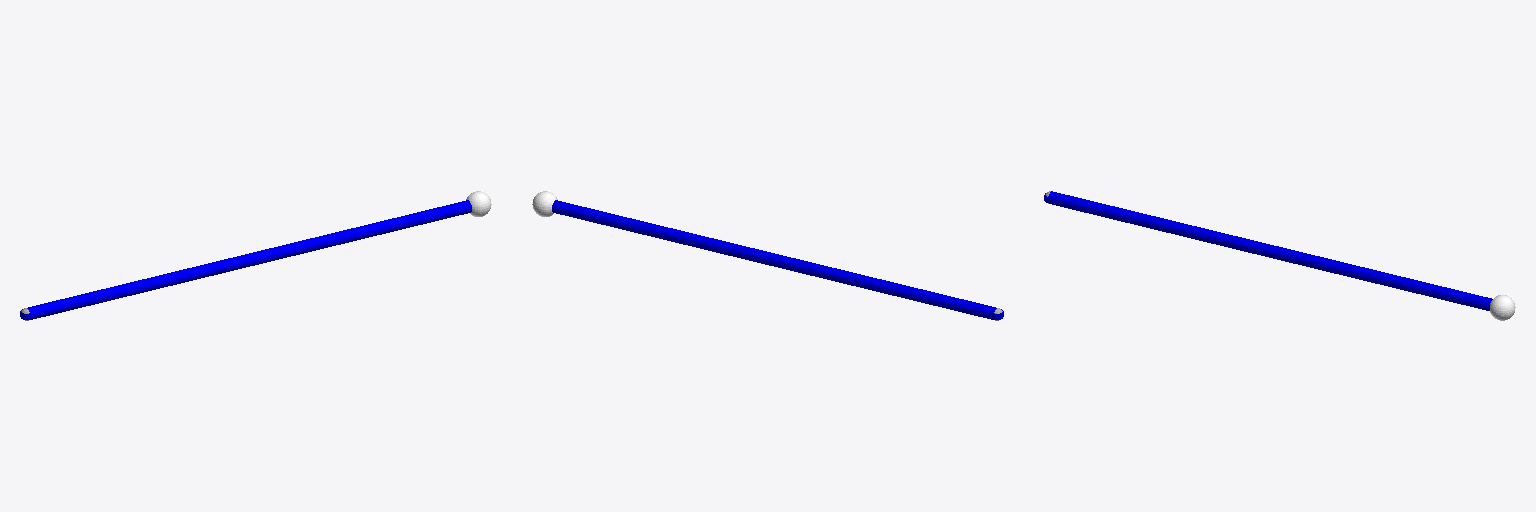
robot.urdf — planar_robot_4_link:
<?xml version="1.0" ?>
<robot name="planar_robot_4_link" version="1.0">
   <link name="world"/>
   <joint name="base_joint" type="fixed">
      <origin xyz="0.0 0.0 0.0" rpy="0.0 0.0 0.0"/>
      <parent link="world"/>
      <child link="base_link"/>
   </joint>
   <link name="base_link">
      <visual>
         <geometry>
            <cylinder radius="0.01" length="0.01"/>
         </geometry>
         <material name="blue">
            <color rgba="0.0 0.0 1.0 1.0"/>
         </material>
      </visual>
      <collision>
         <geometry>
            <cylinder radius="0.01" length="0.01"/>
         </geometry>
      </collision>
   </link>
   <joint name="joint_1" type="revolute">
      <origin xyz="0.0 0.0 0.0" rpy="0.0 0.0 0.0"/>
      <axis xyz="0.0 0.0 1.0"/>
      <parent link="base_link"/>
      <child link="link_1"/>
      <limit effort="320.0" lower="-2.97" upper="2.97" velocity="2.35619449019"/>
   </joint>
   <link name="link_1">
      <visual>
         <origin xyz="0.1 0.0 0.0" rpy="0.0 1.57079632679 0.0"/>
         <geometry>
            <cylinder radius="0.01" length="0.2"/>
         </geometry>
         <material name="blue">
            <color rgba="0.0 0.0 1.0 1.0"/>
         </material>
      </visual>
      <collision>
         <origin xyz="0.1 0.0 0.0" rpy="0.0 1.57079632679 0.0"/>
         <geometry>
            <cylinder radius="0.01" length="0.2"/>
         </geometry>
      </collision>
   </link>
   <joint name="joint_2" type="revolute">
      <origin xyz="0.2 0.0 0.0" rpy="0 0 0"/>
      <axis xyz="0.0 0.0 1.0"/>
      <parent link="link_1"/>
      <child link="link_2"/>
      <limit effort="320.0" lower="-2.36" upper="2.36" velocity="2.35619449019"/>
   </joint>
   <link name="link_2">
      <visual>
         <origin xyz="0.1 0.0 0.0" rpy="0.0 1.57079632679 0.0"/>
         <geometry>
            <cylinder radius="0.01" length="0.2"/>
         </geometry>
         <material name="blue">
            <color rgba="0.0 0.0 1.0 1.0"/>
         </material>
      </visual>
      <collision>
         <origin xyz="0.1 0.0 0.0" rpy="0.0 1.57079632679 0.0"/>
         <geometry>
            <cylinder radius="0.01" length="0.2"/>
         </geometry>
      </collision>
   </link>
   <joint name="joint_3" type="revolute">
      <origin xyz="0.2 0.0 0.0" rpy="0 0 0"/>
      <axis xyz="0.0 0.0 1.0"/>
      <parent link="link_2"/>
      <child link="link_3"/>
      <limit effort="320.0" lower="-2.36" upper="2.36" velocity="2.35619449019"/>
   </joint>
   <link name="link_3">
      <visual>
         <origin xyz="0.1 0.0 0.0" rpy="0.0 1.57079632679 0.0"/>
         <geometry>
            <cylinder radius="0.01" length="0.2"/>
         </geometry>
         <material name="blue">
            <color rgba="0.0 0.0 1.0 1.0"/>
         </material>
      </visual>
      <collision>
         <origin xyz="0.1 0.0 0.0" rpy="0.0 1.57079632679 0.0"/>
         <geometry>
            <cylinder radius="0.01" length="0.2"/>
         </geometry>
      </collision>
   </link>
   <joint name="joint_4" type="revolute">
      <origin xyz="0.2 0.0 0.0" rpy="0 0 0"/>
      <axis xyz="0.0 0.0 1.0"/>
      <parent link="link_3"/>
      <child link="link_4"/>
      <limit effort="320.0" lower="-2.36" upper="2.36" velocity="2.35619449019"/>
   </joint>
   <link name="link_4">
      <visual>
         <origin xyz="0.1 0.0 0.0" rpy="0.0 1.57079632679 0.0"/>
         <geometry>
            <cylinder radius="0.01" length="0.2"/>
         </geometry>
         <material name="blue">
            <color rgba="0.0 0.0 1.0 1.0"/>
         </material>
      </visual>
      <collision>
         <origin xyz="0.1 0.0 0.0" rpy="0.0 1.57079632679 0.0"/>
         <geometry>
            <cylinder radius="0.01" length="0.2"/>
         </geometry>
      </collision>
   </link>
   <joint name="joint_ee" type="fixed">
      <origin xyz="0.2 0.0 0.0" rpy="0 0 0"/>
      <axis xyz="1.0 0.0 0.0"/>
      <parent link="link_4"/>
      <child link="link_ee"/>
   </joint>
   <link name="link_ee">
      <visual>
         <origin xyz="0.0 0.0 0.0" rpy="0.0 0.0 0.0"/>
         <geometry>
            <sphere radius="0.02"/>
         </geometry>
         <material name="white">
            <color rgba="1.0 1.0 1.0 1.0"/>
         </material>
      </visual>
      <collision>
         <origin xyz="0.0 0.0 0.0" rpy="0.0 0.0 0.0"/>
         <geometry>
            <sphere radius="0.02"/>
         </geometry>
      </collision>
   </link>
   <joint name="joint_link_1_sphere_0" type="fixed">
      <origin xyz="0.0 0.0 0.0" rpy="0 0 0"/>
      <parent link="link_1"/>
      <child link="link_1_0"/>
   </joint>
   <link name="link_1_0">
      <origin xyz="0.0 0.0 0.0" rpy="0.0 0.0 0.0"/>
      <visual>
         <geometry>
            <sphere radius="0.01"/>
         </geometry>
      </visual>
   </link>
   <joint name="joint_link_1_sphere_1" type="fixed">
      <origin xyz="0.04 0.0 0.0" rpy="0 0 0"/>
      <parent link="link_1"/>
      <child link="link_1_1"/>
   </joint>
   <link name="link_1_1">
      <origin xyz="0.0 0.0 0.0" rpy="0.0 0.0 0.0"/>
      <visual>
         <geometry>
            <sphere radius="0.01"/>
         </geometry>
      </visual>
   </link>
   <joint name="joint_link_1_sphere_2" type="fixed">
      <origin xyz="0.08 0.0 0.0" rpy="0 0 0"/>
      <parent link="link_1"/>
      <child link="link_1_2"/>
   </joint>
   <link name="link_1_2">
      <origin xyz="0.0 0.0 0.0" rpy="0.0 0.0 0.0"/>
      <visual>
         <geometry>
            <sphere radius="0.01"/>
         </geometry>
      </visual>
   </link>
   <joint name="joint_link_1_sphere_3" type="fixed">
      <origin xyz="0.12 0.0 0.0" rpy="0 0 0"/>
      <parent link="link_1"/>
      <child link="link_1_3"/>
   </joint>
   <link name="link_1_3">
      <origin xyz="0.0 0.0 0.0" rpy="0.0 0.0 0.0"/>
      <visual>
         <geometry>
            <sphere radius="0.01"/>
         </geometry>
      </visual>
   </link>
   <joint name="joint_link_1_sphere_4" type="fixed">
      <origin xyz="0.16 0.0 0.0" rpy="0 0 0"/>
      <parent link="link_1"/>
      <child link="link_1_4"/>
   </joint>
   <link name="link_1_4">
      <origin xyz="0.0 0.0 0.0" rpy="0.0 0.0 0.0"/>
      <visual>
         <geometry>
            <sphere radius="0.01"/>
         </geometry>
      </visual>
   </link>
   <joint name="joint_link_2_sphere_0" type="fixed">
      <origin xyz="0.0 0.0 0.0" rpy="0 0 0"/>
      <parent link="link_2"/>
      <child link="link_2_0"/>
   </joint>
   <link name="link_2_0">
      <origin xyz="0.0 0.0 0.0" rpy="0.0 0.0 0.0"/>
      <visual>
         <geometry>
            <sphere radius="0.01"/>
         </geometry>
      </visual>
   </link>
   <joint name="joint_link_2_sphere_1" type="fixed">
      <origin xyz="0.04 0.0 0.0" rpy="0 0 0"/>
      <parent link="link_2"/>
      <child link="link_2_1"/>
   </joint>
   <link name="link_2_1">
      <origin xyz="0.0 0.0 0.0" rpy="0.0 0.0 0.0"/>
      <visual>
         <geometry>
            <sphere radius="0.01"/>
         </geometry>
      </visual>
   </link>
   <joint name="joint_link_2_sphere_2" type="fixed">
      <origin xyz="0.08 0.0 0.0" rpy="0 0 0"/>
      <parent link="link_2"/>
      <child link="link_2_2"/>
   </joint>
   <link name="link_2_2">
      <origin xyz="0.0 0.0 0.0" rpy="0.0 0.0 0.0"/>
      <visual>
         <geometry>
            <sphere radius="0.01"/>
         </geometry>
      </visual>
   </link>
   <joint name="joint_link_2_sphere_3" type="fixed">
      <origin xyz="0.12 0.0 0.0" rpy="0 0 0"/>
      <parent link="link_2"/>
      <child link="link_2_3"/>
   </joint>
   <link name="link_2_3">
      <origin xyz="0.0 0.0 0.0" rpy="0.0 0.0 0.0"/>
      <visual>
         <geometry>
            <sphere radius="0.01"/>
         </geometry>
      </visual>
   </link>
   <joint name="joint_link_2_sphere_4" type="fixed">
      <origin xyz="0.16 0.0 0.0" rpy="0 0 0"/>
      <parent link="link_2"/>
      <child link="link_2_4"/>
   </joint>
   <link name="link_2_4">
      <origin xyz="0.0 0.0 0.0" rpy="0.0 0.0 0.0"/>
      <visual>
         <geometry>
            <sphere radius="0.01"/>
         </geometry>
      </visual>
   </link>
   <joint name="joint_link_3_sphere_0" type="fixed">
      <origin xyz="0.0 0.0 0.0" rpy="0 0 0"/>
      <parent link="link_3"/>
      <child link="link_3_0"/>
   </joint>
   <link name="link_3_0">
      <origin xyz="0.0 0.0 0.0" rpy="0.0 0.0 0.0"/>
      <visual>
         <geometry>
            <sphere radius="0.01"/>
         </geometry>
      </visual>
   </link>
   <joint name="joint_link_3_sphere_1" type="fixed">
      <origin xyz="0.04 0.0 0.0" rpy="0 0 0"/>
      <parent link="link_3"/>
      <child link="link_3_1"/>
   </joint>
   <link name="link_3_1">
      <origin xyz="0.0 0.0 0.0" rpy="0.0 0.0 0.0"/>
      <visual>
         <geometry>
            <sphere radius="0.01"/>
         </geometry>
      </visual>
   </link>
   <joint name="joint_link_3_sphere_2" type="fixed">
      <origin xyz="0.08 0.0 0.0" rpy="0 0 0"/>
      <parent link="link_3"/>
      <child link="link_3_2"/>
   </joint>
   <link name="link_3_2">
      <origin xyz="0.0 0.0 0.0" rpy="0.0 0.0 0.0"/>
      <visual>
         <geometry>
            <sphere radius="0.01"/>
         </geometry>
      </visual>
   </link>
   <joint name="joint_link_3_sphere_3" type="fixed">
      <origin xyz="0.12 0.0 0.0" rpy="0 0 0"/>
      <parent link="link_3"/>
      <child link="link_3_3"/>
   </joint>
   <link name="link_3_3">
      <origin xyz="0.0 0.0 0.0" rpy="0.0 0.0 0.0"/>
      <visual>
         <geometry>
            <sphere radius="0.01"/>
         </geometry>
      </visual>
   </link>
   <joint name="joint_link_3_sphere_4" type="fixed">
      <origin xyz="0.16 0.0 0.0" rpy="0 0 0"/>
      <parent link="link_3"/>
      <child link="link_3_4"/>
   </joint>
   <link name="link_3_4">
      <origin xyz="0.0 0.0 0.0" rpy="0.0 0.0 0.0"/>
      <visual>
         <geometry>
            <sphere radius="0.01"/>
         </geometry>
      </visual>
   </link>
   <joint name="joint_link_4_sphere_0" type="fixed">
      <origin xyz="0.0 0.0 0.0" rpy="0 0 0"/>
      <parent link="link_4"/>
      <child link="link_4_0"/>
   </joint>
   <link name="link_4_0">
      <origin xyz="0.0 0.0 0.0" rpy="0.0 0.0 0.0"/>
      <visual>
         <geometry>
            <sphere radius="0.01"/>
         </geometry>
      </visual>
   </link>
   <joint name="joint_link_4_sphere_1" type="fixed">
      <origin xyz="0.04 0.0 0.0" rpy="0 0 0"/>
      <parent link="link_4"/>
      <child link="link_4_1"/>
   </joint>
   <link name="link_4_1">
      <origin xyz="0.0 0.0 0.0" rpy="0.0 0.0 0.0"/>
      <visual>
         <geometry>
            <sphere radius="0.01"/>
         </geometry>
      </visual>
   </link>
   <joint name="joint_link_4_sphere_2" type="fixed">
      <origin xyz="0.08 0.0 0.0" rpy="0 0 0"/>
      <parent link="link_4"/>
      <child link="link_4_2"/>
   </joint>
   <link name="link_4_2">
      <origin xyz="0.0 0.0 0.0" rpy="0.0 0.0 0.0"/>
      <visual>
         <geometry>
            <sphere radius="0.01"/>
         </geometry>
      </visual>
   </link>
   <joint name="joint_link_4_sphere_3" type="fixed">
      <origin xyz="0.12 0.0 0.0" rpy="0 0 0"/>
      <parent link="link_4"/>
      <child link="link_4_3"/>
   </joint>
   <link name="link_4_3">
      <origin xyz="0.0 0.0 0.0" rpy="0.0 0.0 0.0"/>
      <visual>
         <geometry>
            <sphere radius="0.01"/>
         </geometry>
      </visual>
   </link>
   <joint name="joint_link_4_sphere_4" type="fixed">
      <origin xyz="0.16 0.0 0.0" rpy="0 0 0"/>
      <parent link="link_4"/>
      <child link="link_4_4"/>
   </joint>
   <link name="link_4_4">
      <origin xyz="0.0 0.0 0.0" rpy="0.0 0.0 0.0"/>
      <visual>
         <geometry>
            <sphere radius="0.01"/>
         </geometry>
      </visual>
   </link>
   <joint name="joint_link_4_sphere_5" type="fixed">
      <origin xyz="0.2 0.0 0.0" rpy="0 0 0"/>
      <parent link="link_4"/>
      <child link="link_4_5"/>
   </joint>
   <link name="link_4_5">
      <origin xyz="0.0 0.0 0.0" rpy="0.0 0.0 0.0"/>
      <visual>
         <geometry>
            <sphere radius="0.01"/>
         </geometry>
      </visual>
   </link>
</robot>

--- What the picture shows (computed from the rendered views, not written in the file) ---
3 views of the same robot in one strip: view 1: azimuth 30°, elevation 25°; view 2: azimuth 150°, elevation 25°; view 3: azimuth 330°, elevation 25° (orthographic).
Model planar_robot_4_link with 28 links and 27 joints (4 revolute, 23 fixed), rooted at world, posed every joint at zero.
Visible links, largest first — view 1: link_3, link_2, link_1, link_4; view 2: link_3, link_2, link_1, link_4; view 3: link_3, link_2, link_1, link_4, link_ee.
Boxes of the visible links, left/top/right/bottom form: link_3: left=253, top=225, right=368, bottom=264; link_2: left=139, top=253, right=255, bottom=292; link_1: left=27, top=280, right=142, bottom=319; link_4: left=365, top=200, right=471, bottom=237; link_3: left=655, top=225, right=770, bottom=264; link_2: left=768, top=253, right=884, bottom=292; link_1: left=881, top=280, right=996, bottom=319; link_4: left=552, top=200, right=658, bottom=237; link_3: left=1274, top=246, right=1389, bottom=285; link_2: left=1161, top=219, right=1276, bottom=258; link_1: left=1048, top=191, right=1163, bottom=230; link_4: left=1386, top=274, right=1492, bottom=310; link_ee: left=1490, top=295, right=1515, bottom=320.
Size in the robot's own frame: 0.83 by 0.04 by 0.04 metres.
Geometry: primitives only (box / cylinder / sphere), no mesh files.
